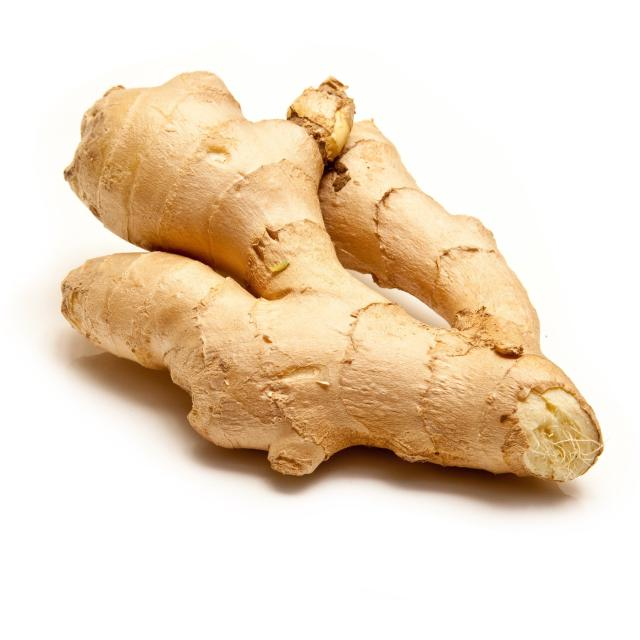Ginger: (46, 37, 598, 541)
